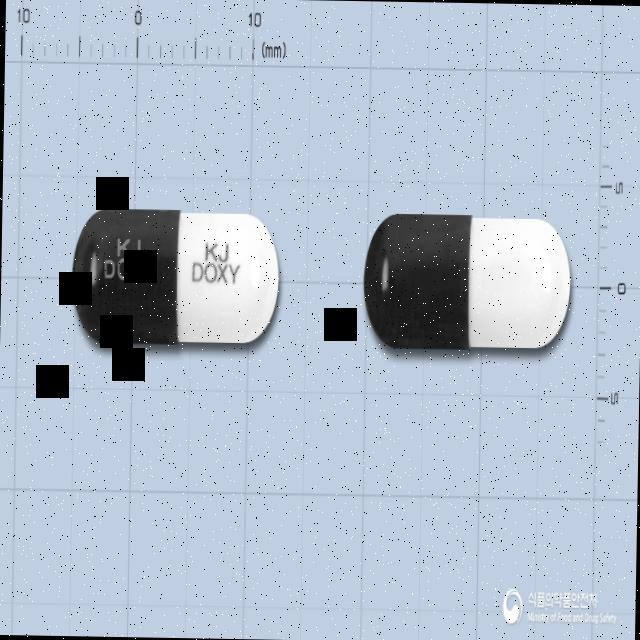Doxycycline Hyclate Cap: (70, 208, 280, 348)
